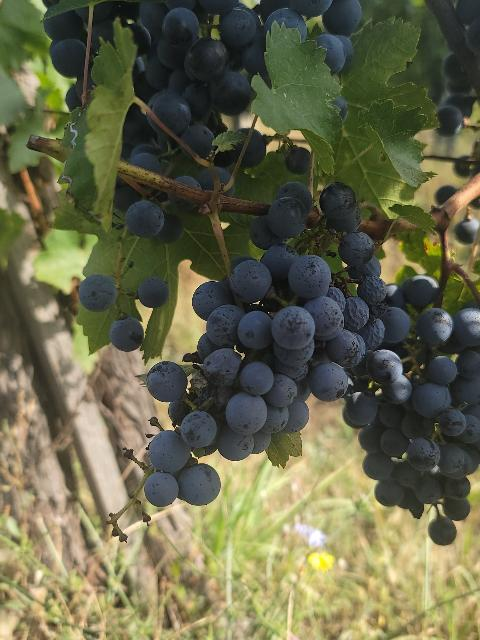grapes: (144, 181, 381, 506), (342, 275, 480, 545)
